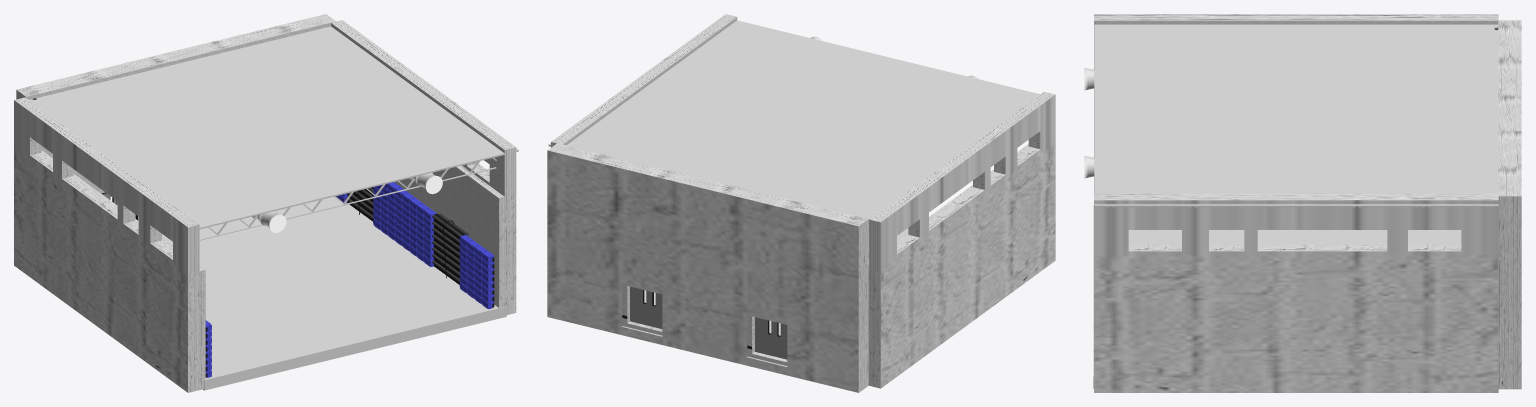
File: gymnasium2.fbx
3 renders of one model, left to right at view 1: azimuth 30°, elevation 25°; view 2: azimuth 150°, elevation 25°; view 3: azimuth 270°, elevation 25°, orthographic. The views are drawn at different scales.
Parts seen in each view (by area): view 1: Cube.003, Cube.005, Cube.009, Cube.006, Cube.007, Cube.008, Cube.001, Cube.002, Cube.004; view 2: Cube.008, Cube.003, Cube.009, Cube.006, Cube.017, Cube.012, Cube.005; view 3: Cube.006, Cube.003, Cube.008, Cube.009, Cube.005.
Part boxes in pixels (bbox=[...]): Cube.003: bbox=[30, 26, 518, 229]; Cube.005: bbox=[162, 196, 506, 390]; Cube.009: bbox=[14, 97, 205, 392]; Cube.006: bbox=[331, 20, 516, 314]; Cube.007: bbox=[336, 182, 494, 309]; Cube.008: bbox=[16, 14, 335, 220]; Cube.001: bbox=[199, 157, 496, 240]; Cube.002: bbox=[252, 211, 286, 232]; Cube.004: bbox=[409, 172, 442, 194]; Cube.008: bbox=[547, 143, 868, 392]; Cube.003: bbox=[548, 20, 1039, 223]; Cube.009: bbox=[868, 91, 1055, 388]; Cube.006: bbox=[551, 14, 737, 147]; Cube.017: bbox=[755, 317, 787, 359]; Cube.012: bbox=[630, 286, 662, 328]; Cube.005: bbox=[622, 228, 908, 365]; Cube.006: bbox=[1094, 193, 1498, 392]; Cube.003: bbox=[1094, 24, 1498, 207]; Cube.008: bbox=[1498, 20, 1521, 389]; Cube.009: bbox=[1094, 14, 1498, 193]; Cube.005: bbox=[1093, 205, 1461, 388].
Bounding box in the file's own units: 3794 × 1831 × 3735.
